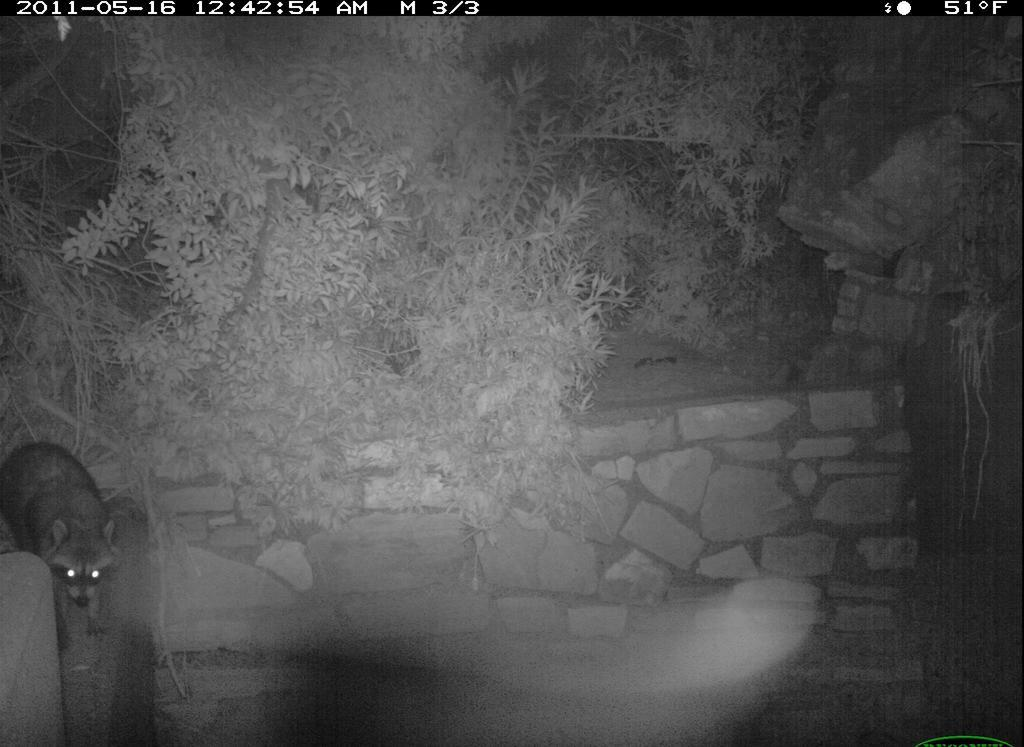raccoon: (2, 425, 141, 667)
